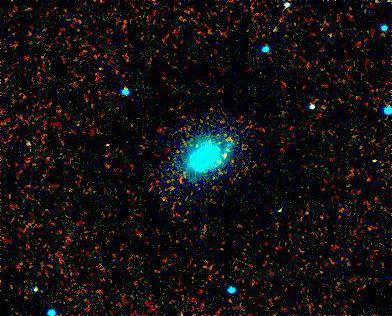star: (214, 138, 244, 168)
